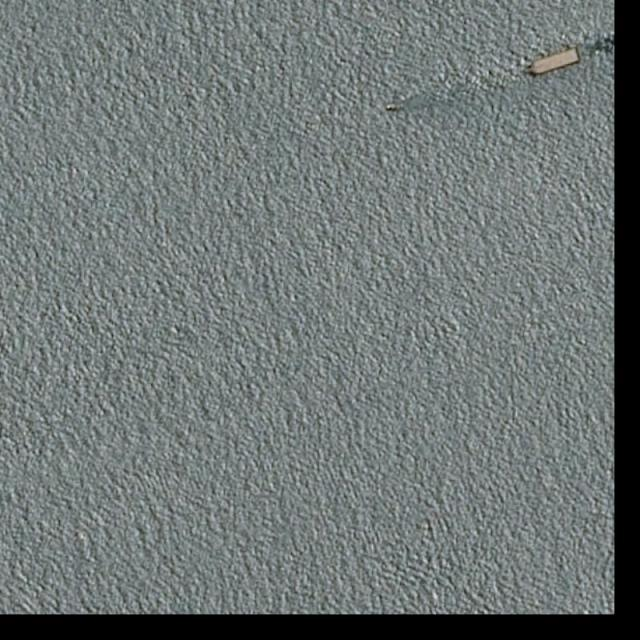ship: (522, 46, 583, 78), (386, 104, 398, 110)
